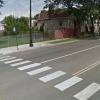Crosswalk: (5, 54, 100, 100)
